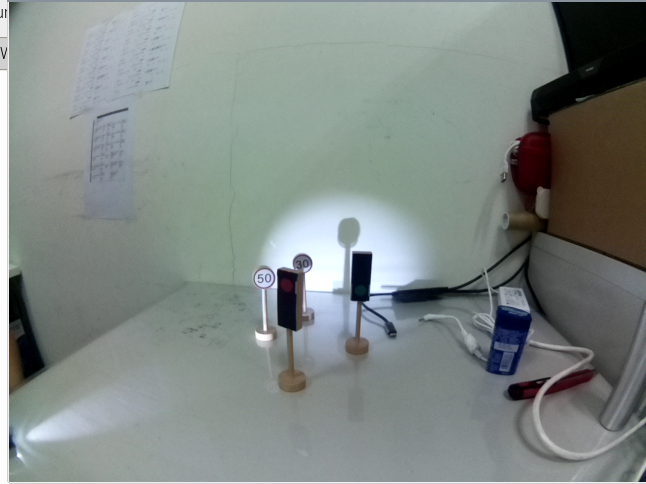Green: (348, 249, 377, 306)
Red: (275, 267, 305, 336)
Speed30: (291, 250, 315, 275)
Speed50: (249, 266, 276, 292)
